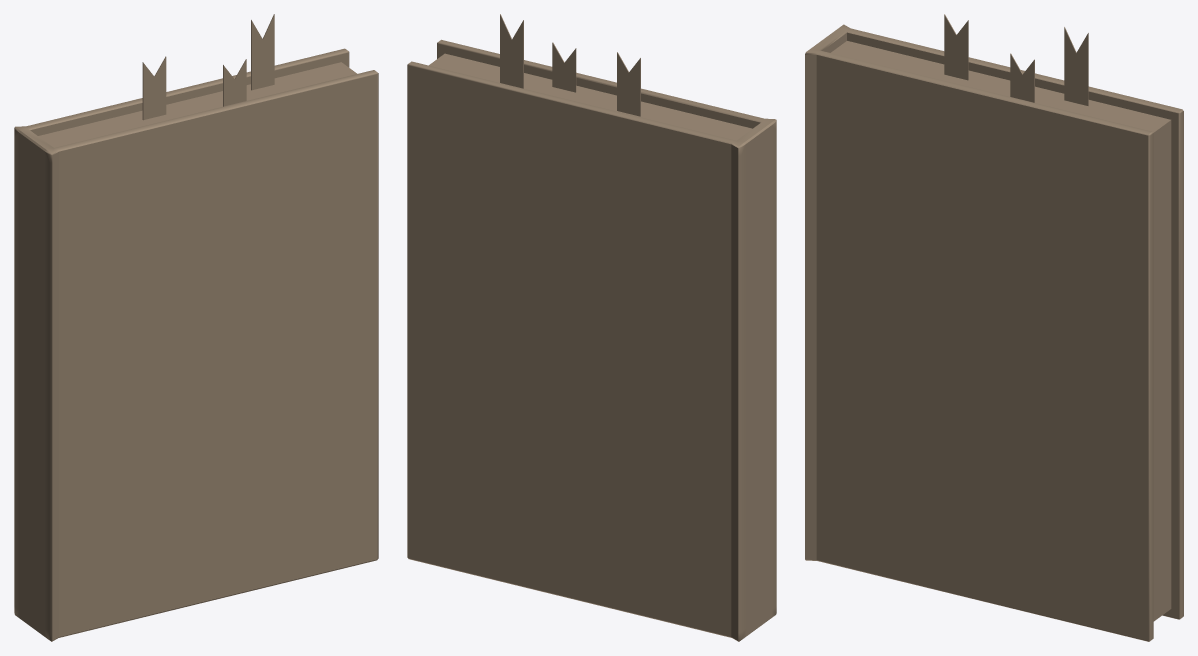
The model's file is Book06.fbx.
3 views of the same model, side by side, from view 1: azimuth 30°, elevation 25°; view 2: azimuth 150°, elevation 25°; view 3: azimuth 330°, elevation 25° (orthographic). The views are drawn at different scales.
Visible parts, largest first — view 1: Book06, polySurface671, polySurface672, polySurface670; view 2: Book06, polySurface671, polySurface672, polySurface670; view 3: Book06, polySurface671, polySurface672, polySurface670.
Boxes of the visible parts, <box> form: Book06: <box>14,48,378,641</box>; polySurface671: <box>251,14,274,90</box>; polySurface672: <box>142,56,166,120</box>; polySurface670: <box>223,59,246,106</box>; Book06: <box>407,39,776,641</box>; polySurface671: <box>500,14,523,88</box>; polySurface672: <box>617,52,640,116</box>; polySurface670: <box>552,42,576,92</box>; Book06: <box>805,24,1183,641</box>; polySurface671: <box>1064,27,1088,105</box>; polySurface672: <box>944,14,968,80</box>; polySurface670: <box>1010,53,1034,102</box>.
Bounding box in the file's own units: 0.1989 × 0.316 × 0.0394.
